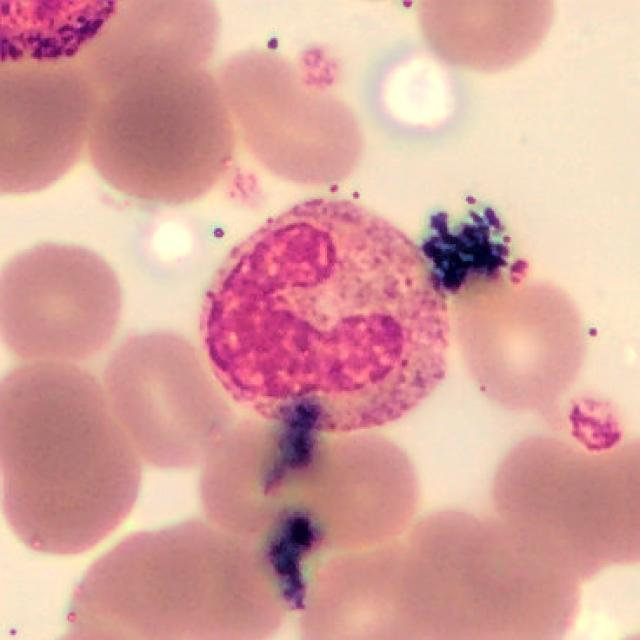Bastonete: (198, 197, 447, 469)
